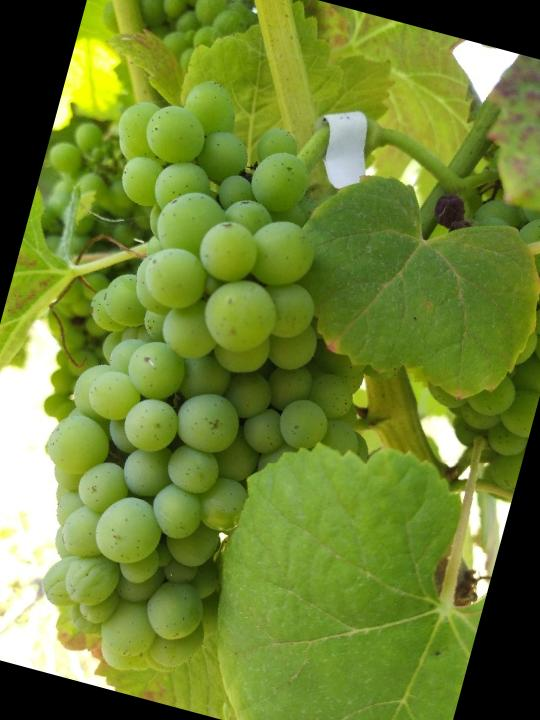grape: (0, 58, 452, 720)
